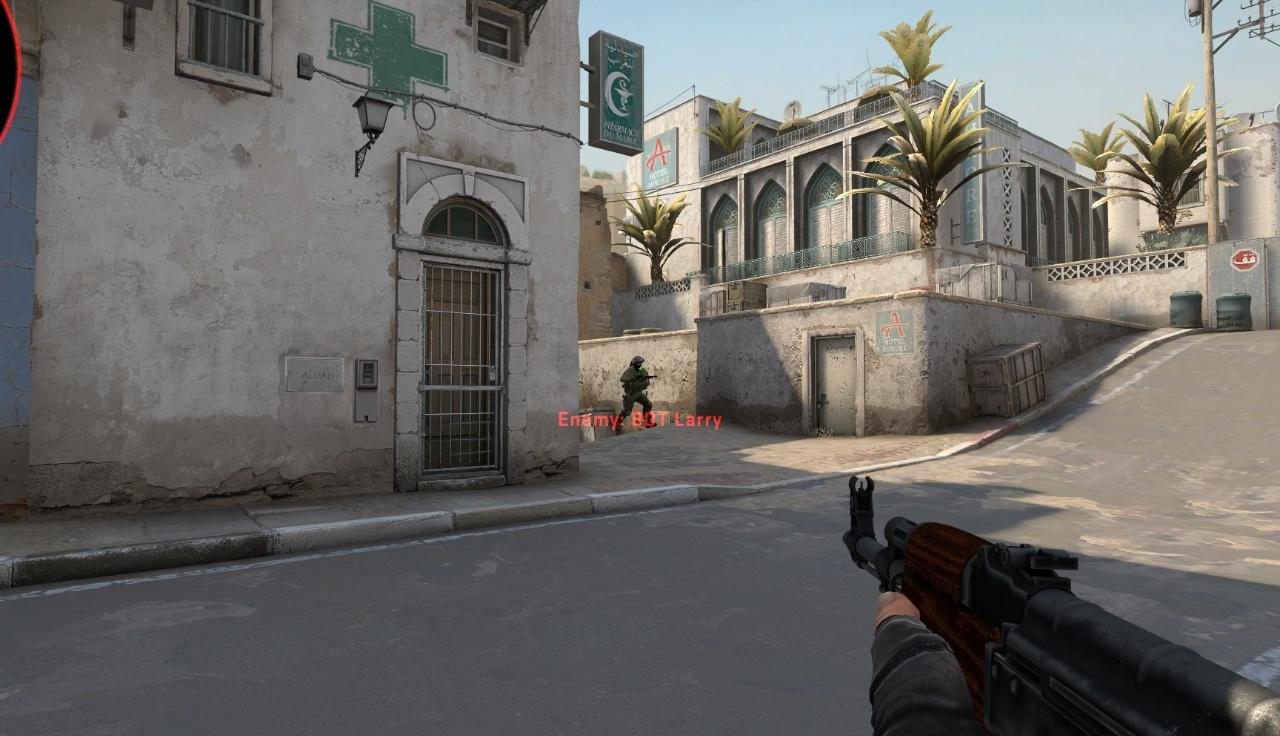ct: (616, 356, 657, 428)
cthead: (633, 357, 643, 370)
rifle: (845, 473, 1280, 736)
